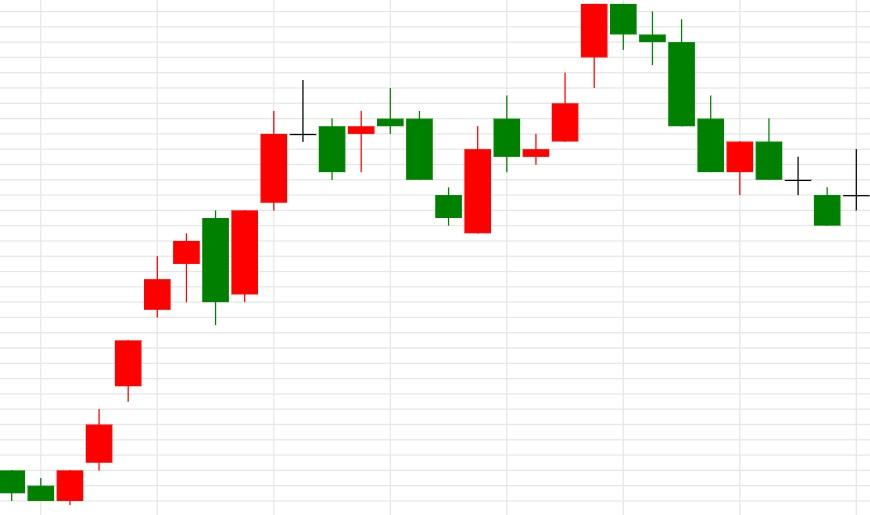bullish_engulfing_rise: (377, 86, 491, 234)
three_black_crows_fall: (463, 3, 696, 235)
three_white_soldiers_rise: (0, 339, 142, 505)
